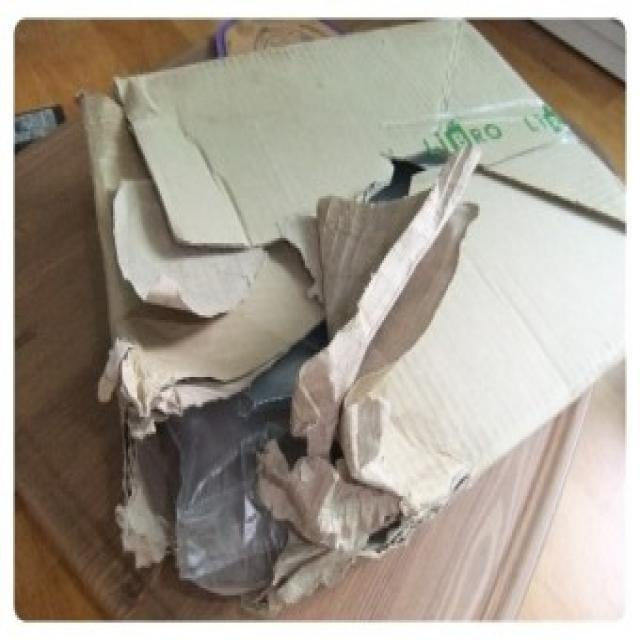damaged: (142, 160, 422, 585)
